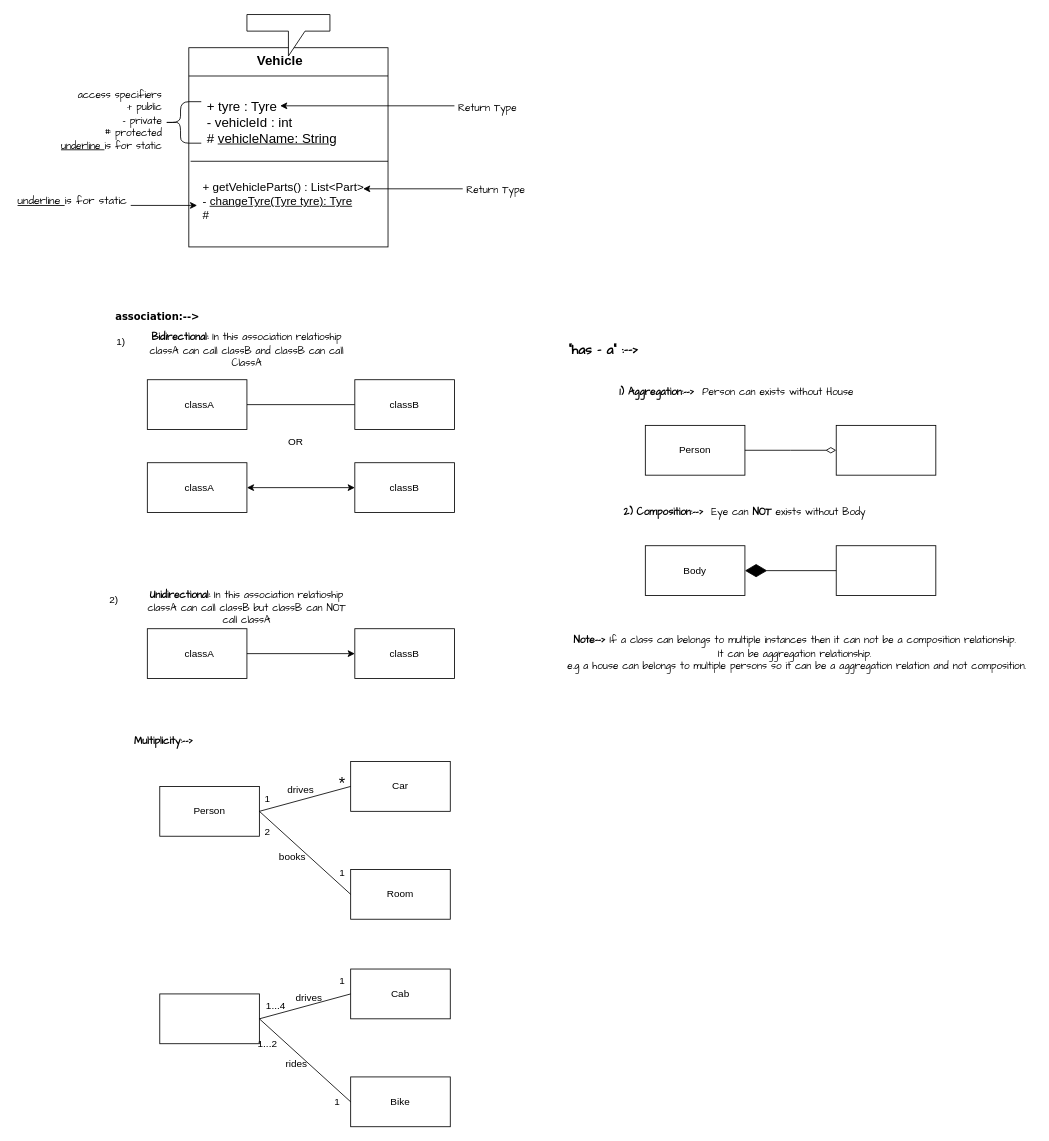
Image size: 1049x1141. Some labels were removed from this diagram. The centre of each missing label's shape, as x and y in pixels:
"class name" goes at pixel 288 35.
"Eye" goes at pixel 885 570.
"House" goes at pixel 885 450.
"Rider" goes at pixel 209 1018.
